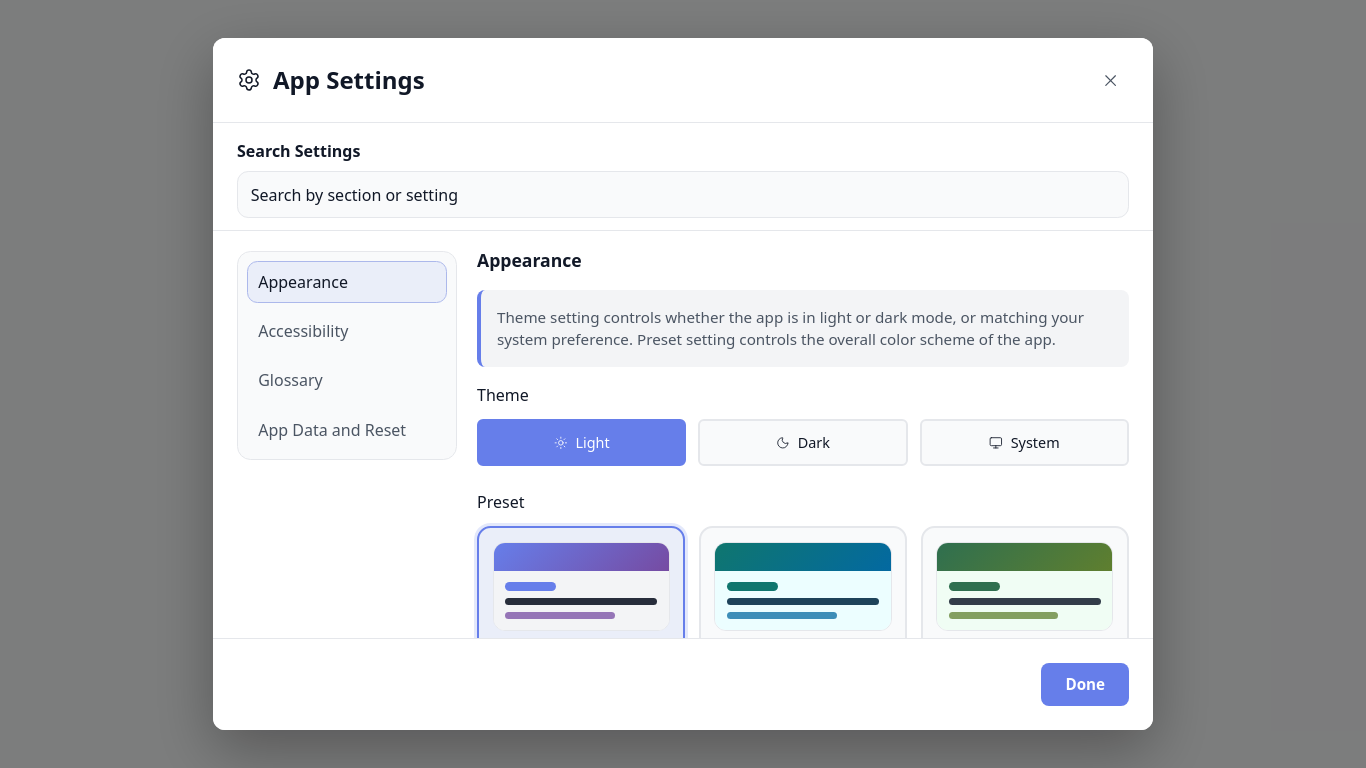
Test case: SettingsModal › surfaces accessibility section when searching for font-related terms
In the search field labelled "Search Settings": (683, 195) [237,171,1129,218], type "dyslexic"
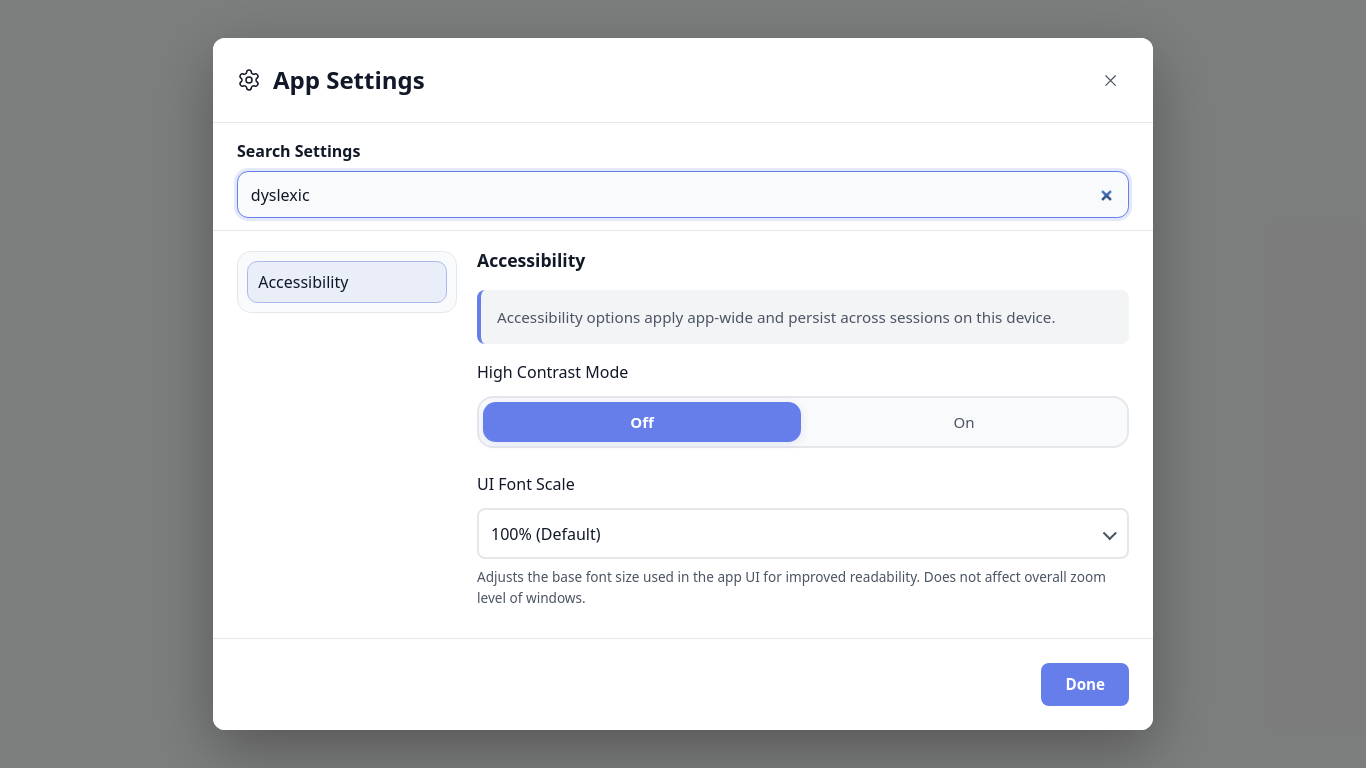
Now the heading "Accessibility" is shown, box [477,248,585,272]
Now the button "Appearance" is gone
